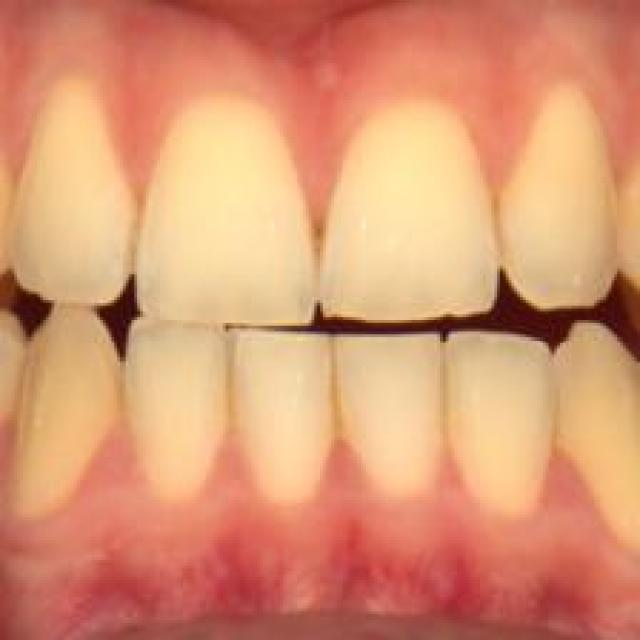cavity: (308, 220, 326, 269)
